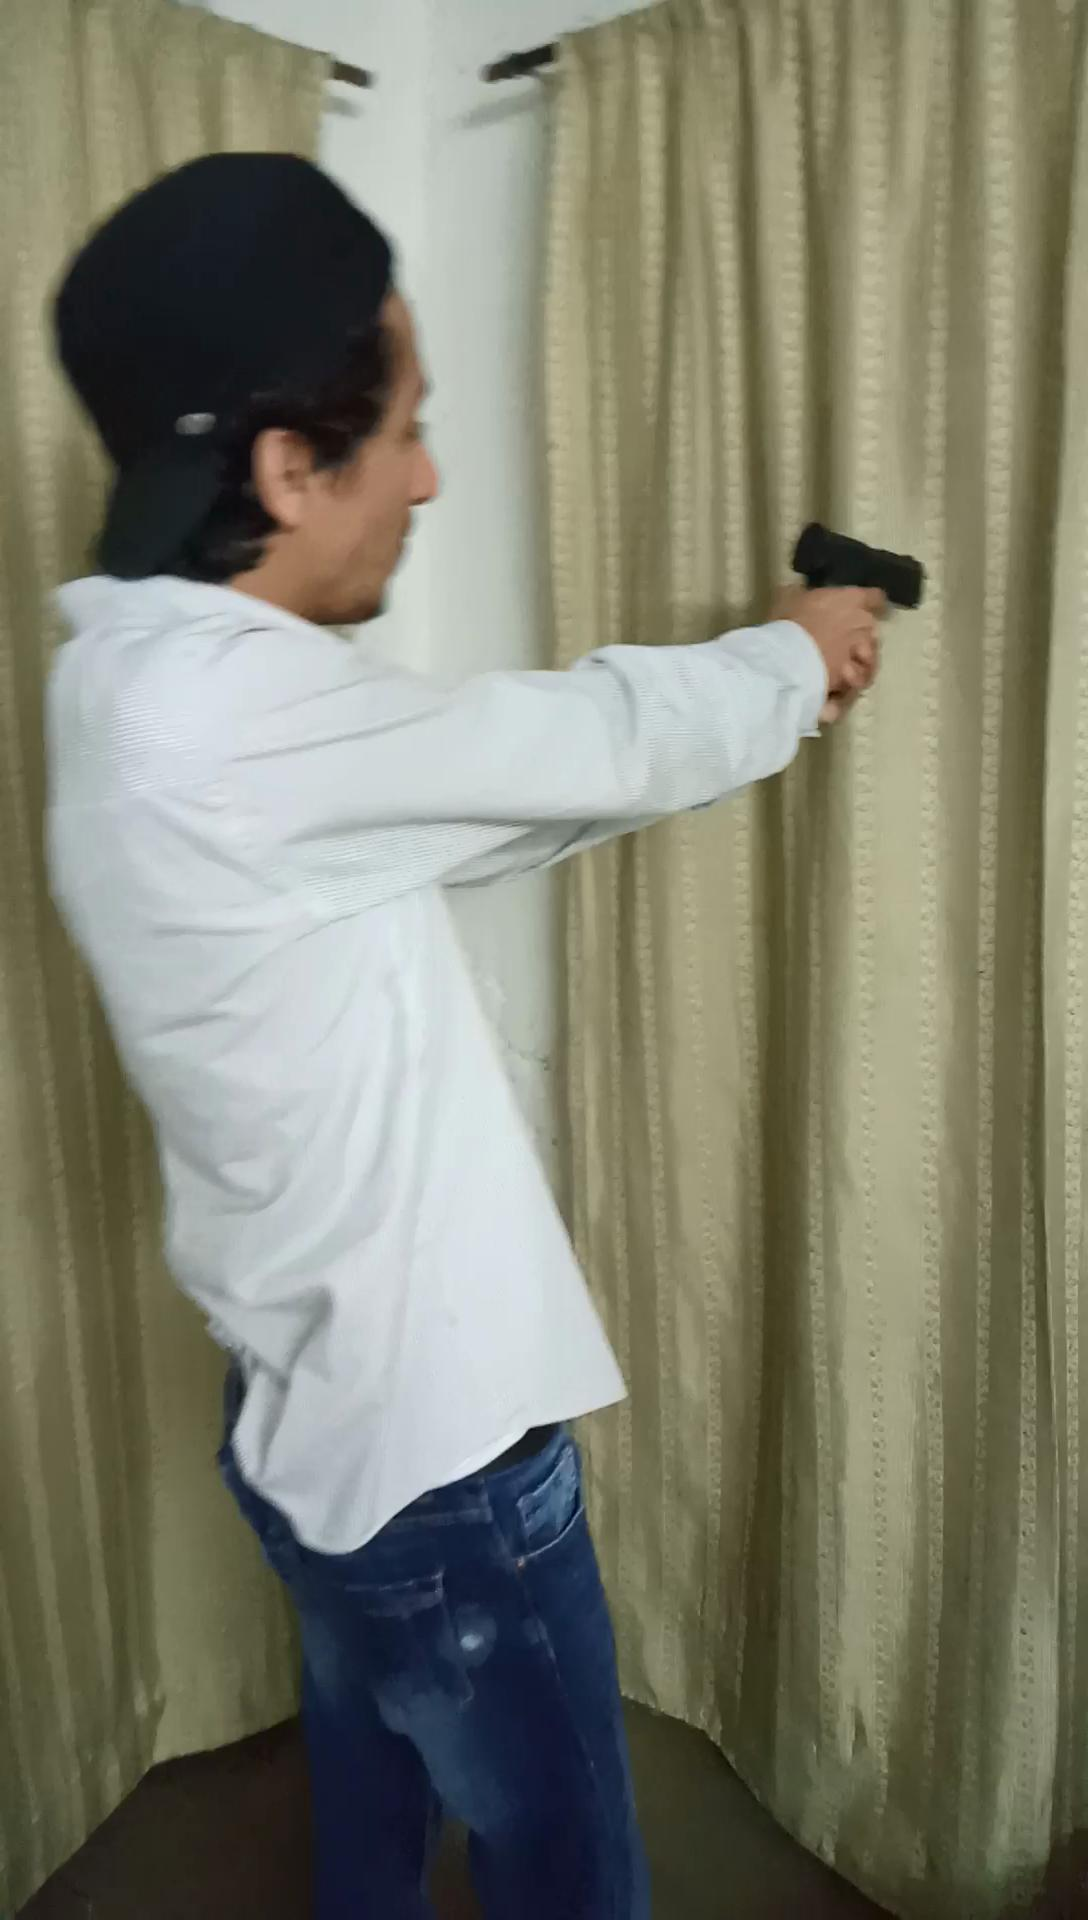criminal: (47, 136, 946, 1920)
weapon: (779, 501, 942, 704)
